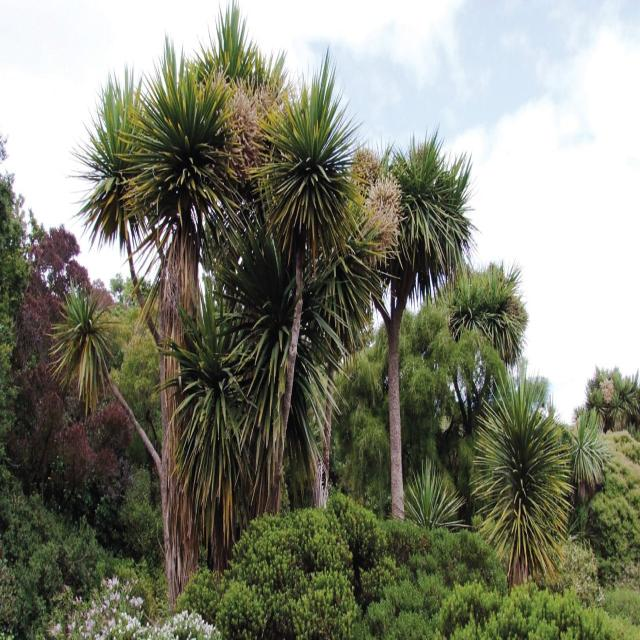Cordyline australis: (89, 75, 215, 558), (192, 28, 280, 552), (353, 122, 448, 514), (269, 68, 329, 518)
